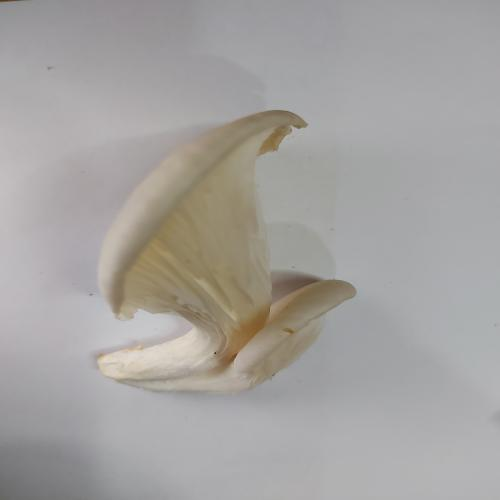Oyster Mushroom: (95, 108, 357, 394)
